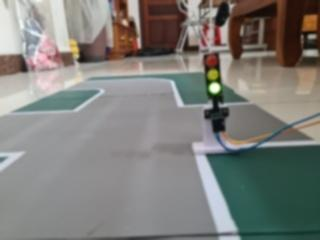green: (190, 47, 234, 118)
